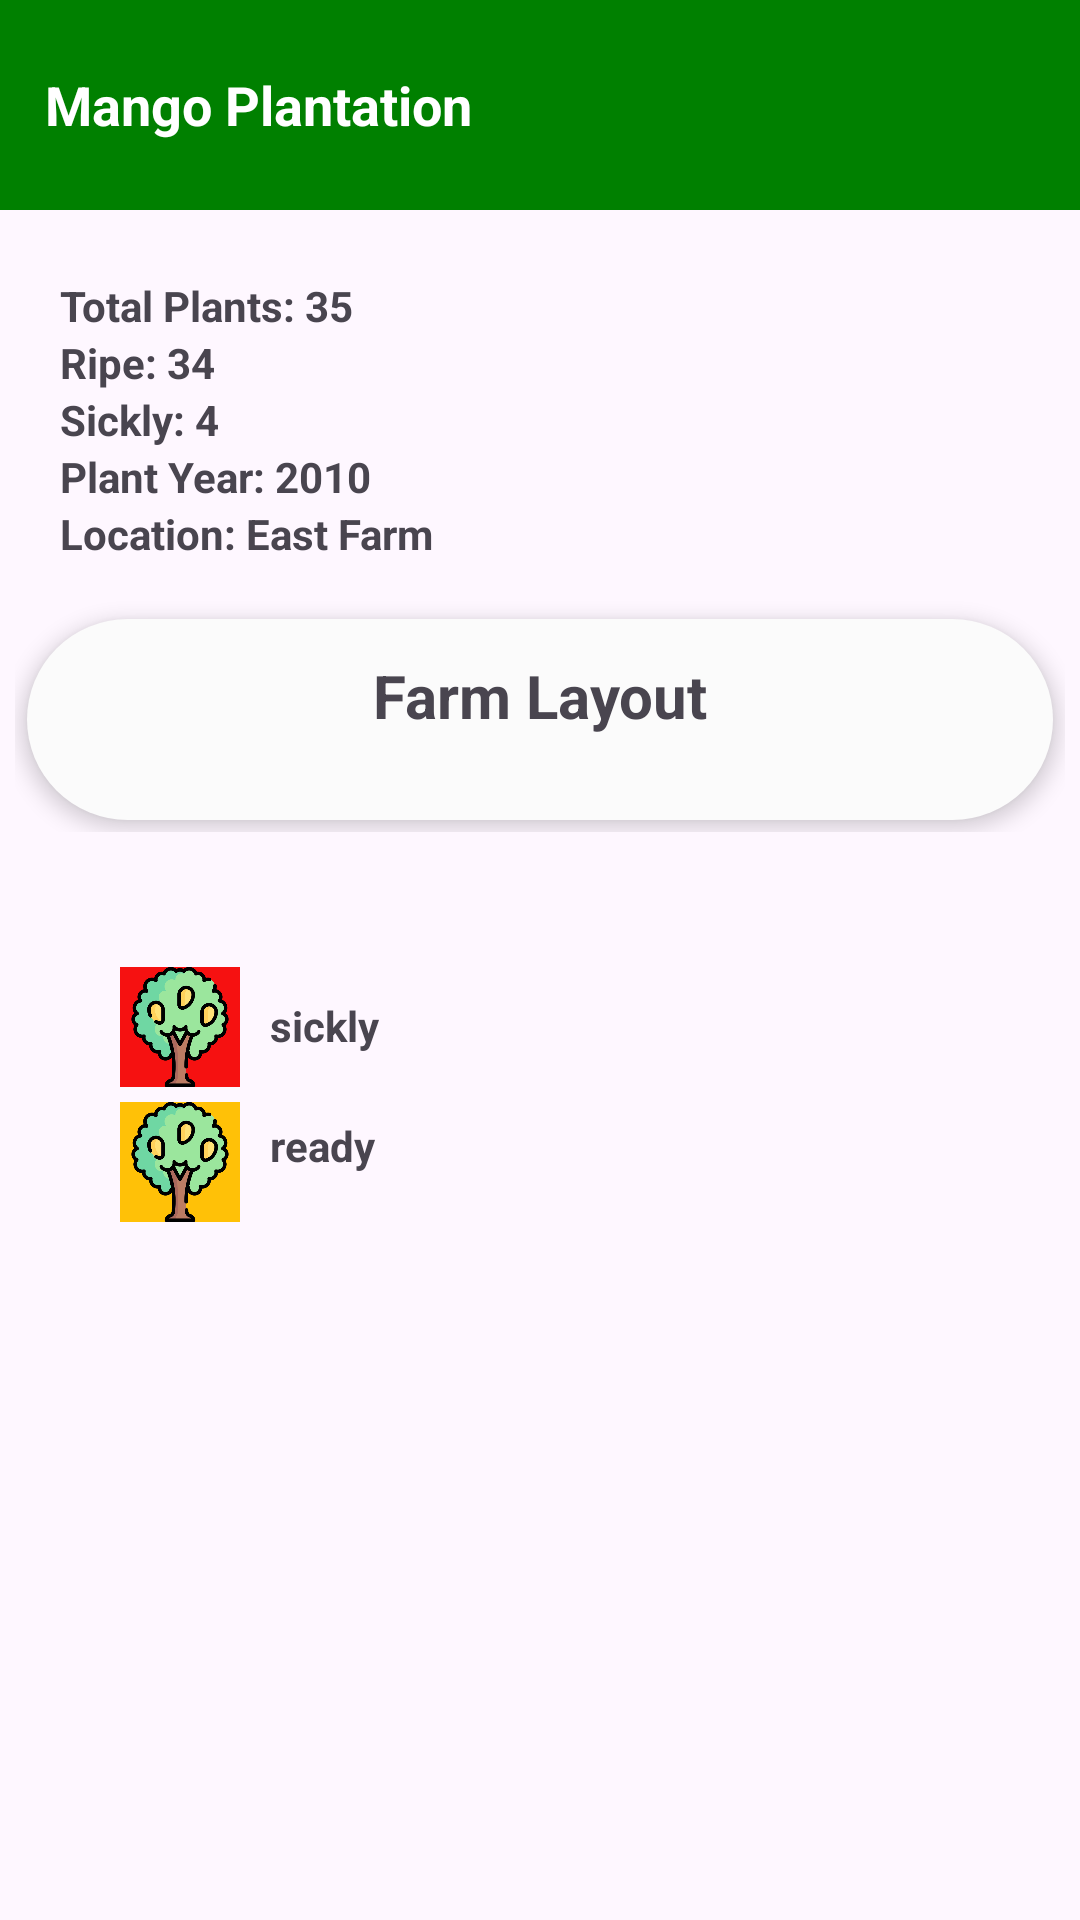

Icons on this 1080px x 1920px Android screen, each with its box as (x1,y1,x2,y2):
Mango Plant: (120,967,240,1087), (120,1102,240,1222)
